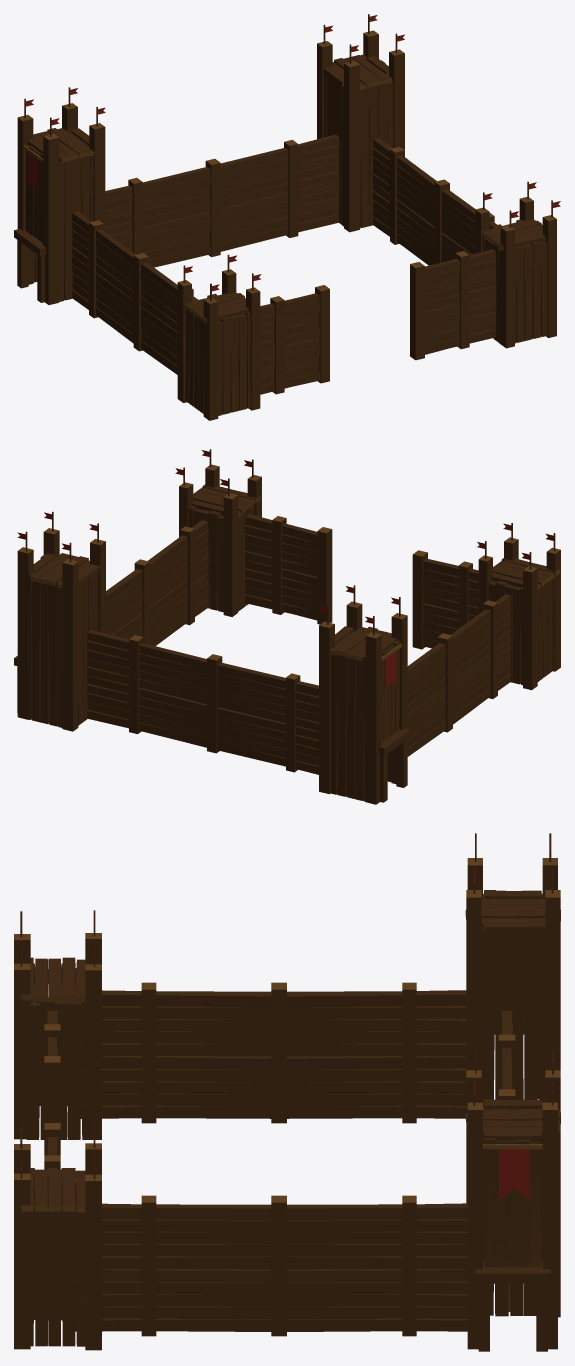
The model's file is WonderWalls_FirstAge.obj.
3 renders of one model, top to bottom at view 1: azimuth 30°, elevation 25°; view 2: azimuth 150°, elevation 25°; view 3: azimuth 270°, elevation 25°, orthographic. The views are drawn at different scales.
Visible parts, largest first — view 1: WonderWalls_FirstAge_Cube.035; view 2: WonderWalls_FirstAge_Cube.035; view 3: WonderWalls_FirstAge_Cube.035.
Part boxes in pixels (x1,y1,x2,y2): WonderWalls_FirstAge_Cube.035: [14, 14, 560, 420]; WonderWalls_FirstAge_Cube.035: [14, 449, 560, 804]; WonderWalls_FirstAge_Cube.035: [14, 833, 560, 1351].
Size of the model in its own units: 2.2 by 1.07 by 1.95.
